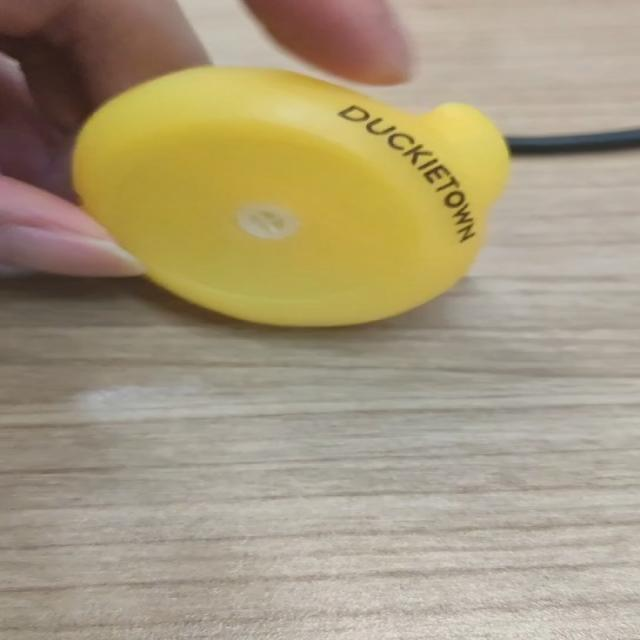rubber-duck: (72, 66, 507, 324)
